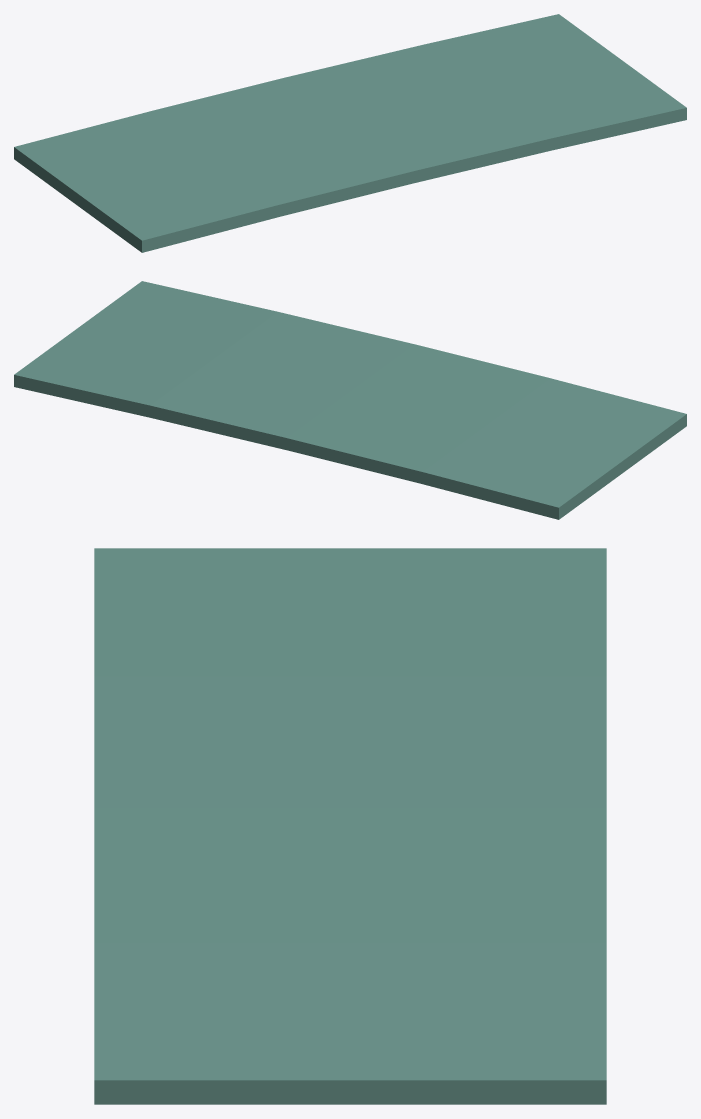
Rendered from boot.glb.
3 views of the same model, one above another, from view 1: azimuth 30°, elevation 25°; view 2: azimuth 150°, elevation 25°; view 3: azimuth 270°, elevation 25° (orthographic). The views are drawn at different scales.
Parts seen in each view (by area): view 1: boot; view 2: boot; view 3: boot.
Boxes of the visible parts, x1=… form: boot: x1=14, y1=14, x2=686, y2=252; boot: x1=14, y1=281, x2=686, y2=519; boot: x1=94, y1=548, x2=606, y2=1104.
Size of the model in its own units: 1.4 by 0.038 by 0.57.
